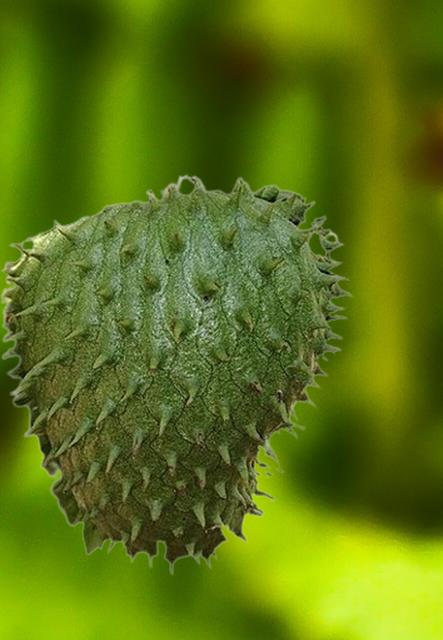guyabano: (0, 173, 352, 575)
